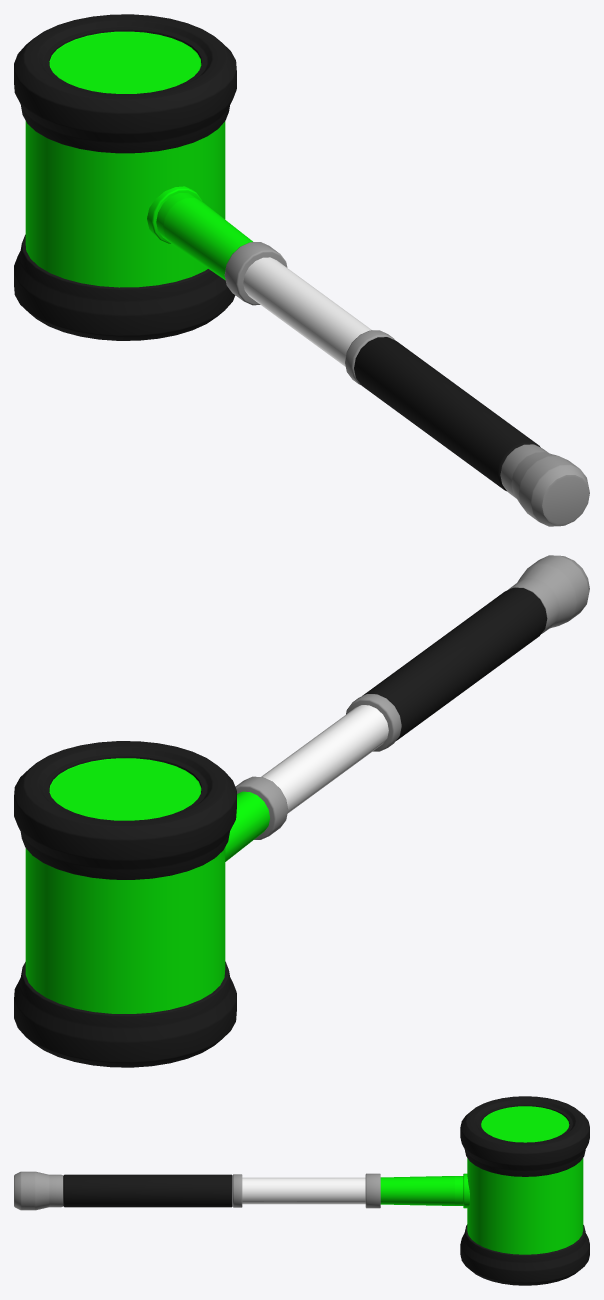
The model's file is hammer.fbx.
The picture shows the model from 3 angles, top to bottom: view 1: azimuth 30°, elevation 25°; view 2: azimuth 150°, elevation 25°; view 3: azimuth 270°, elevation 25°; orthographic projection. The views are drawn at different scales.
Parts seen in each view (by area): view 1: hammer; view 2: hammer; view 3: hammer.
Part boxes in pixels (x1,y1,x2,y2): hammer: (14,14,589,526); hammer: (14,555,589,1067); hammer: (14,1096,589,1285).
Bounding box in the file's own units: 0.1307 × 0.1558 × 0.5814.
